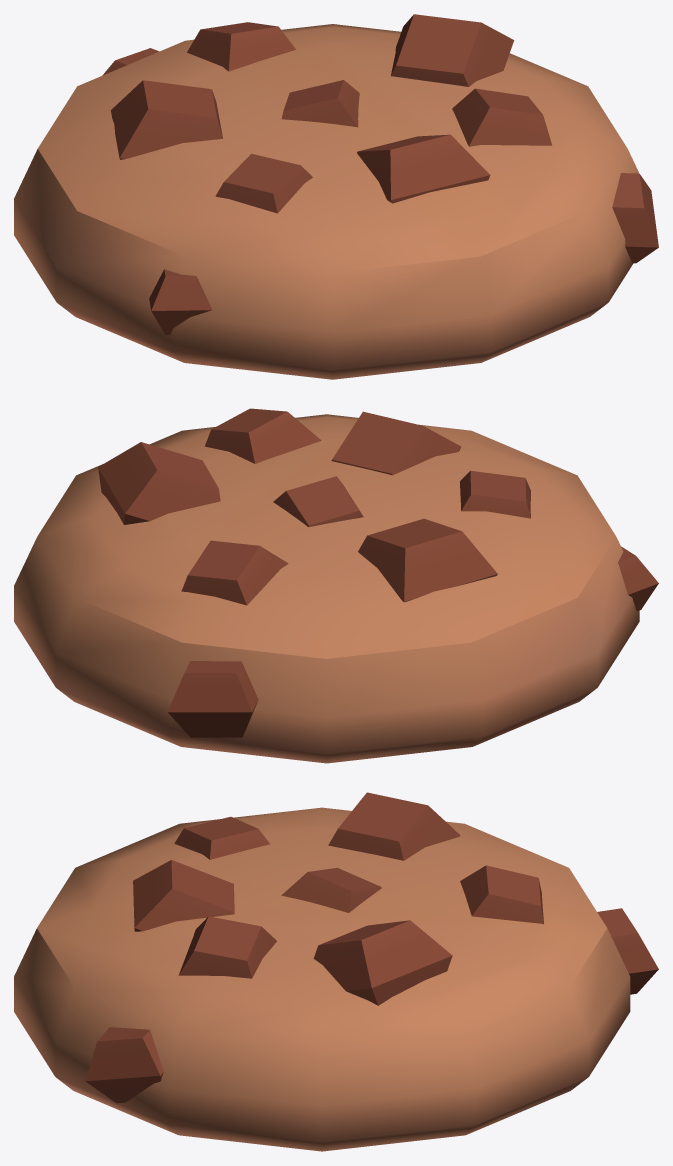
The model's file is donat.glb.
3 views of the same model, one above another, from view 1: azimuth 30°, elevation 25°; view 2: azimuth 150°, elevation 25°; view 3: azimuth 270°, elevation 25° (orthographic). The views are drawn at different scales.
Parts seen in each view (by area): view 1: cookie; view 2: cookie; view 3: cookie.
Boxes of the visible parts, left/top/right/bottom form: cookie: left=14, top=14, right=658, bottom=379; cookie: left=14, top=408, right=658, bottom=763; cookie: left=14, top=792, right=658, bottom=1151.
Size of the model in its own units: 4.3 by 1.31 by 4.5.
1 material, 1 textured.
